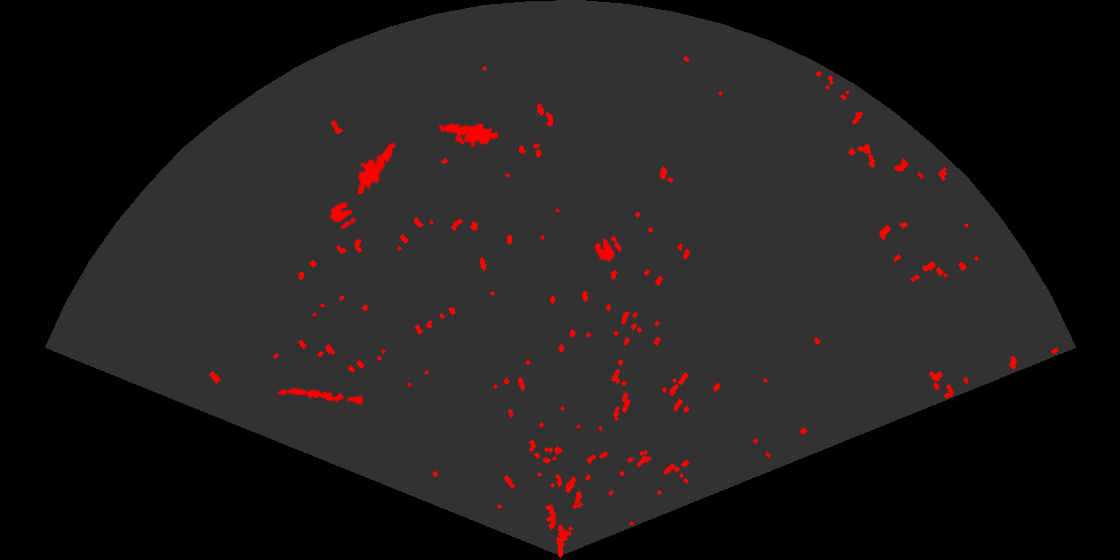ball: (328, 200, 358, 231), (593, 234, 623, 263)
chain: (275, 386, 366, 407)
frogman: (355, 140, 397, 194), (437, 122, 498, 149)
